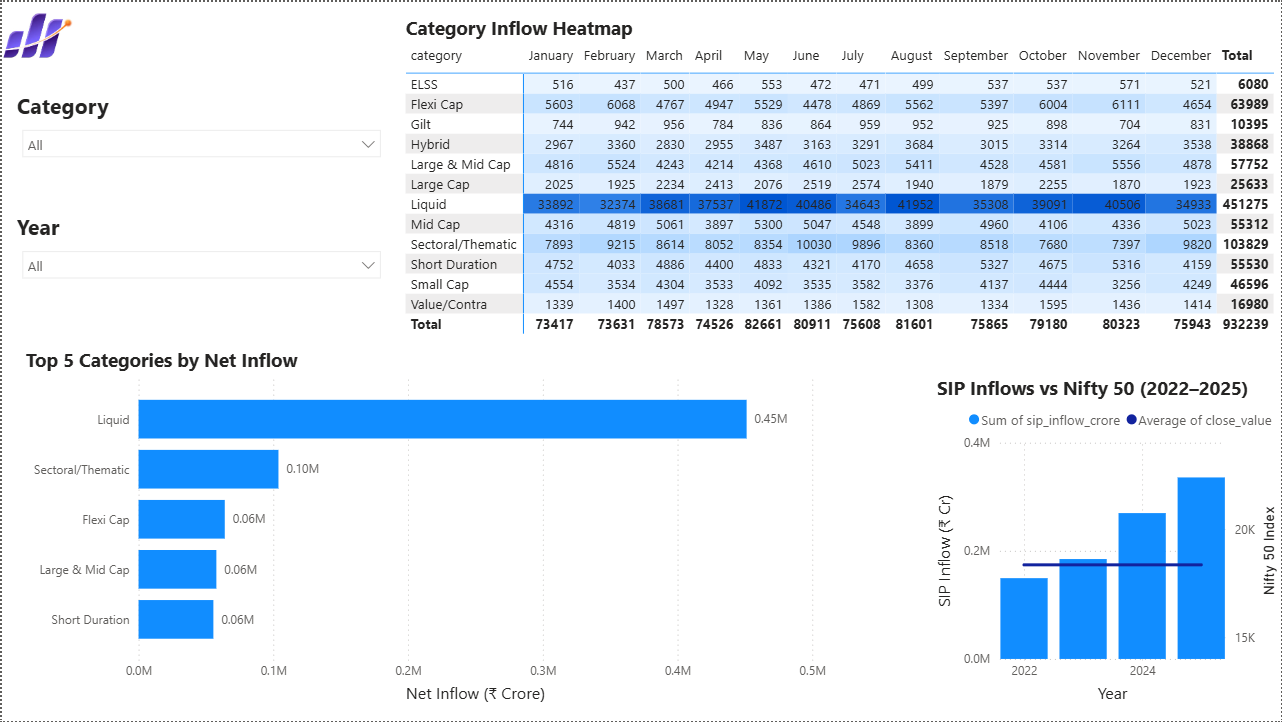

The dashboard page shown, as its layout file describes it:
{"tool":"powerbi","page":{"name":"SIP & Market Trends","canvas":[1280,720],"ordinal":3},"visuals":[{"type":"lineClusteredColumnComboChart","title":"SIP Inflows vs Nifty 50 (2022–2025)","fields":{"Category":["SIP.month.Variation.Date Hierarchy.Year"],"Y":["Sum(SIP.sip_inflow_crore)"],"Y2":["Avg(Benchmark.close_value)"]},"box":[930.2,372.8,349.9,333],"z":0},{"type":"pivotTable","title":"Category Inflow Heatmap","fields":{"Rows":["Category Inflows.category"],"Values":["Sum(Category Inflows.net_inflow_crore)"],"Columns":["Category Inflows.month.Variation.Date Hierarchy.Month"]},"box":[398.1,12.1,881.9,333],"z":1000},{"type":"clusteredBarChart","title":"Top 5 Categories by Net Inflow","fields":{"Category":["Category Inflows.category"],"Y":["Sum(Category Inflows.net_inflow_crore)"]},"box":[19.3,345,810.7,360.7],"z":2000},{"type":"image","box":[0,0,71.2,62.7],"z":3000},{"type":"slicer","title":"Category","fields":{"Values":["Category Inflows.category"]},"box":[9.7,89.3,378.8,103.8],"z":3001},{"type":"slicer","title":"Year","fields":{"Values":["Category Inflows.month.Variation.Date Hierarchy.Year"]},"box":[9.7,209.9,378.8,96.5],"z":3002}]}

Visuals, with their boxes in screenshot pixels (x1, y1, x2, y2), scaled from the page's 1280x720 canvas onto the 1282x722 screenshot:
"SIP Inflows vs Nifty 50 (2022–2025)" lineClusteredColumnComboChart: [x1=932, y1=374, x2=1281, y2=708]
"Category Inflow Heatmap" pivotTable: [x1=399, y1=12, x2=1281, y2=346]
"Top 5 Categories by Net Inflow" clusteredBarChart: [x1=19, y1=346, x2=831, y2=708]
image: [x1=0, y1=0, x2=71, y2=63]
"Category" slicer: [x1=10, y1=90, x2=389, y2=194]
"Year" slicer: [x1=10, y1=210, x2=389, y2=307]
